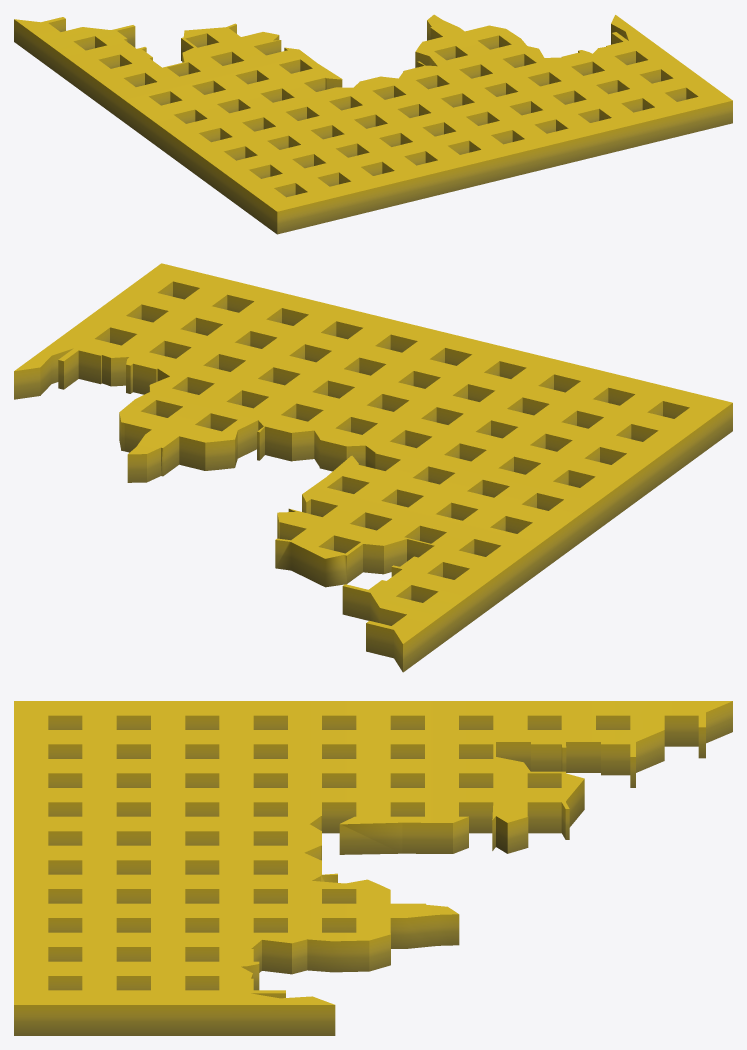
File: grate_broken.fbx
3 renders of one model, top to bottom at view 1: azimuth 30°, elevation 25°; view 2: azimuth 150°, elevation 25°; view 3: azimuth 270°, elevation 25°, orthographic. The views are drawn at different scales.
Visible parts, largest first — view 1: grate_broken; view 2: grate_broken; view 3: grate_broken.
Boxes of the visible parts, box(x1,y1,x2,y2) form: grate_broken: box(14, 14, 732, 234); grate_broken: box(14, 263, 732, 672); grate_broken: box(14, 701, 732, 1035).
Bounding box in the file's own units: 0.0106 × 0.000504 × 0.0106.
1 material, 1 textured.
